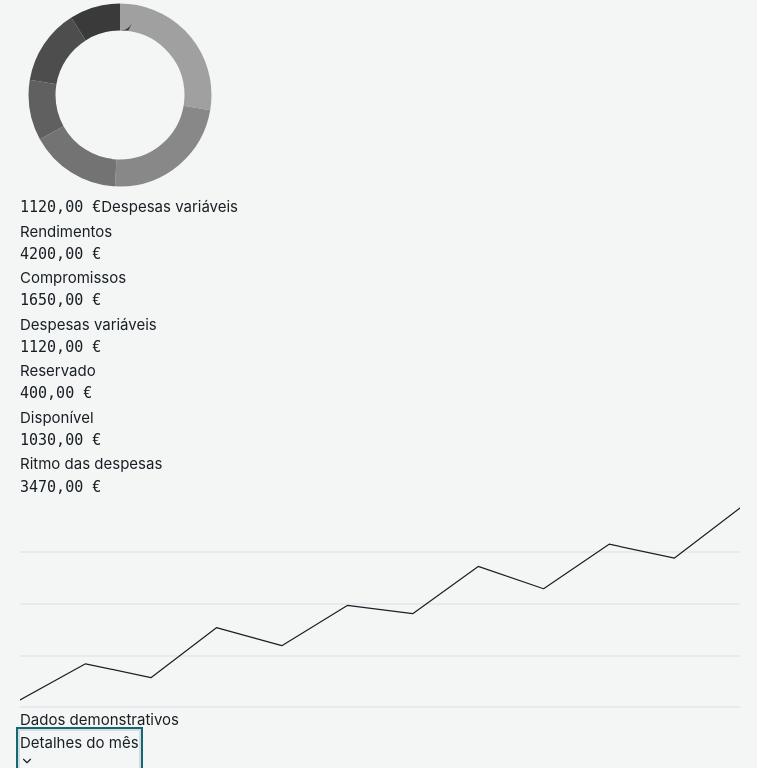
Scenario: compact product-first opening › preserves all details behind a named disclosure in pt-PT
The width and height of the screenshot is (757, 768).
(page scrolled)
Click the button "Detalhes do mês": (79, 749) [20,731,139,767]
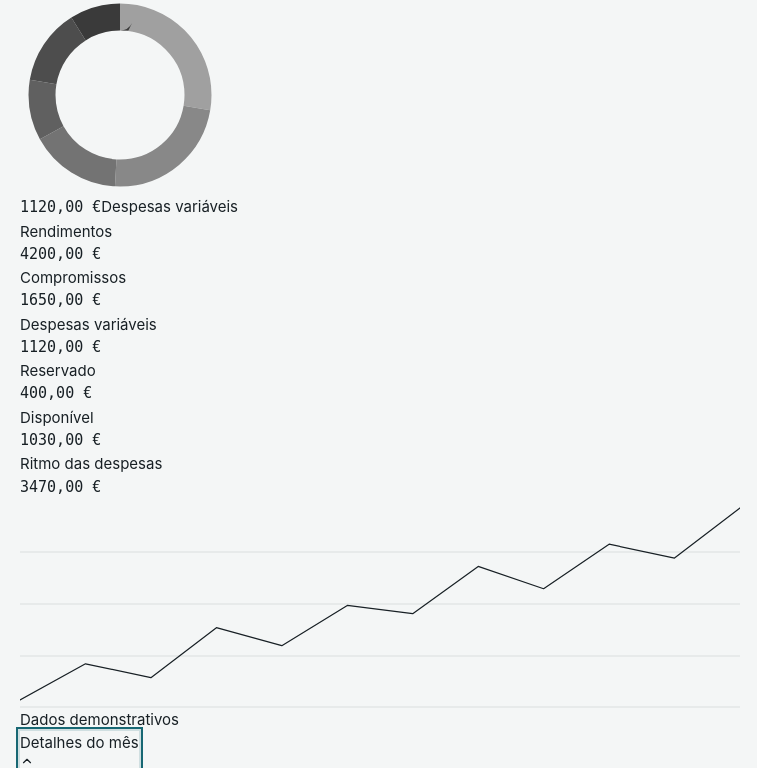
Now the button "Detalhes do mês" is expanded
Click the button "Detalhes do mês": (79, 749) [20,731,139,767]
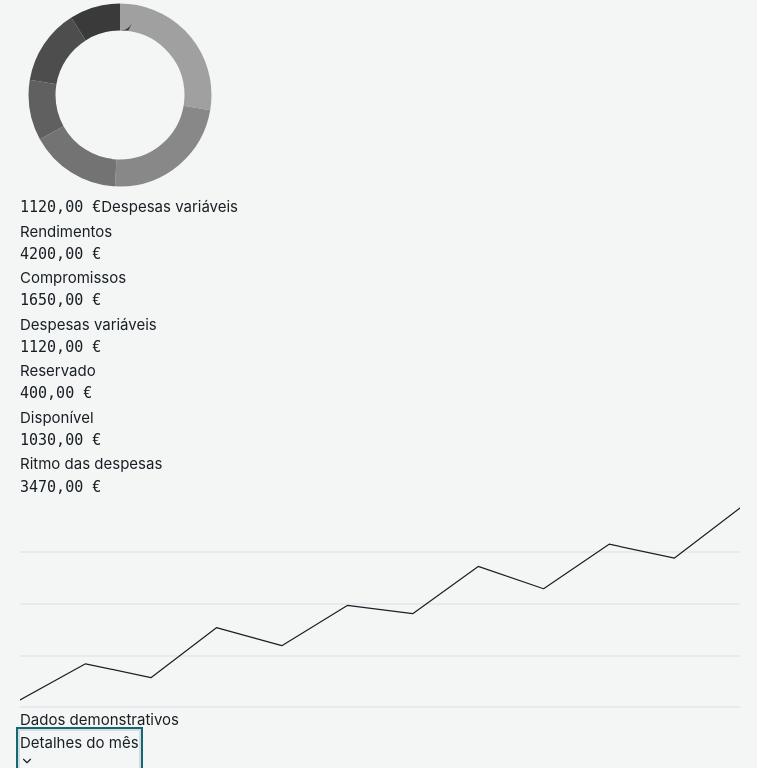
Now the button "Detalhes do mês" is collapsed, box [20,731,139,767]
